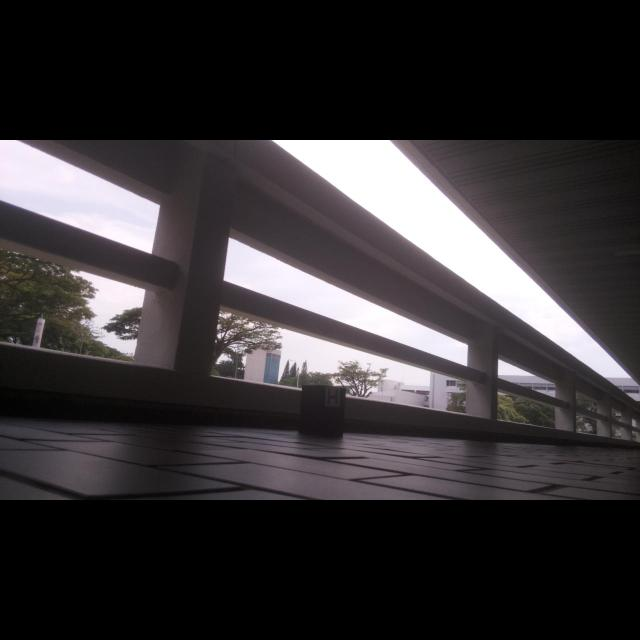H: (327, 389, 338, 405)
